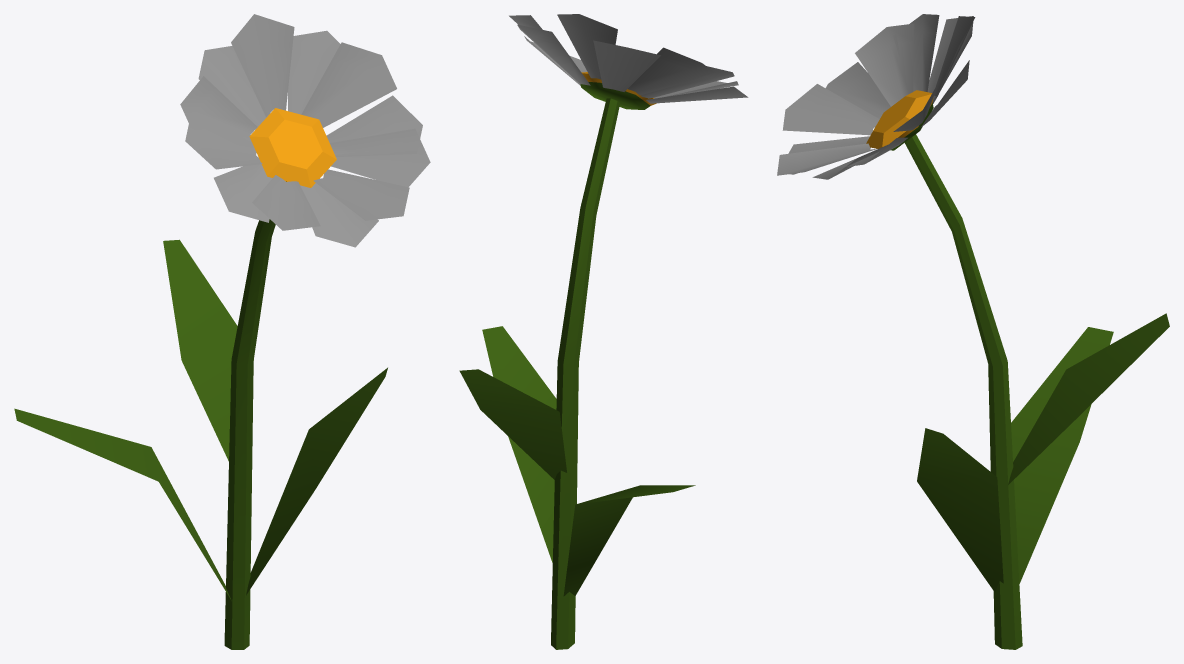
The model's file is Flower_type2.FBX.
The picture shows the model from 3 angles, left to right: view 1: azimuth 30°, elevation 25°; view 2: azimuth 150°, elevation 25°; view 3: azimuth 270°, elevation 25°; orthographic projection. The views are drawn at different scales.
Parts seen in each view (by area): view 1: Flower_type2_01; view 2: Flower_type2_01; view 3: Flower_type2_01.
Part boxes in pixels (x1,y1,x2,y2): Flower_type2_01: [14, 14, 430, 649]; Flower_type2_01: [459, 14, 748, 649]; Flower_type2_01: [777, 14, 1169, 649].
Size of the model in its own units: 21.19 by 24.88 by 43.96.
